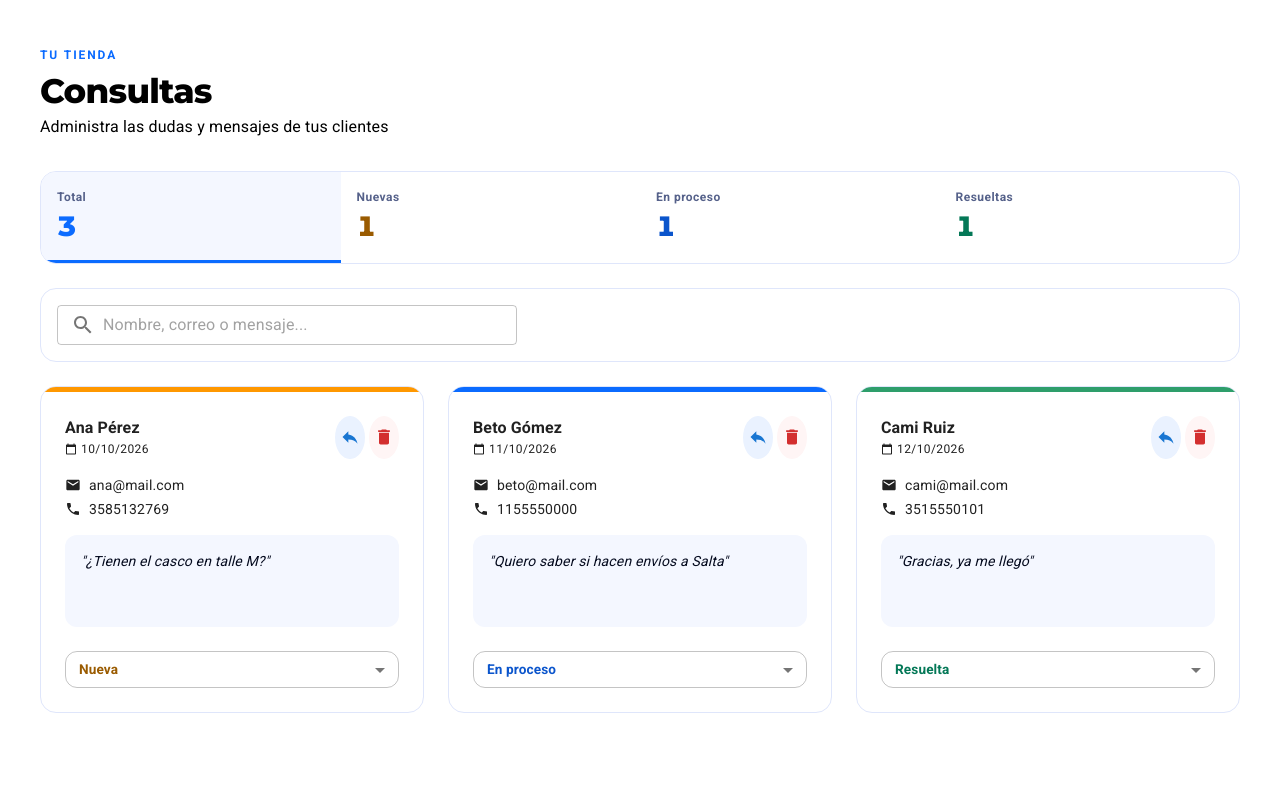
Test: Consultas · responder › cancelar cierra la ventana sin mandar nada
The width and height of the screenshot is (1280, 800).
Click the button named "Responder a Ana Pérez" at (350, 437), box [335,416,365,459]
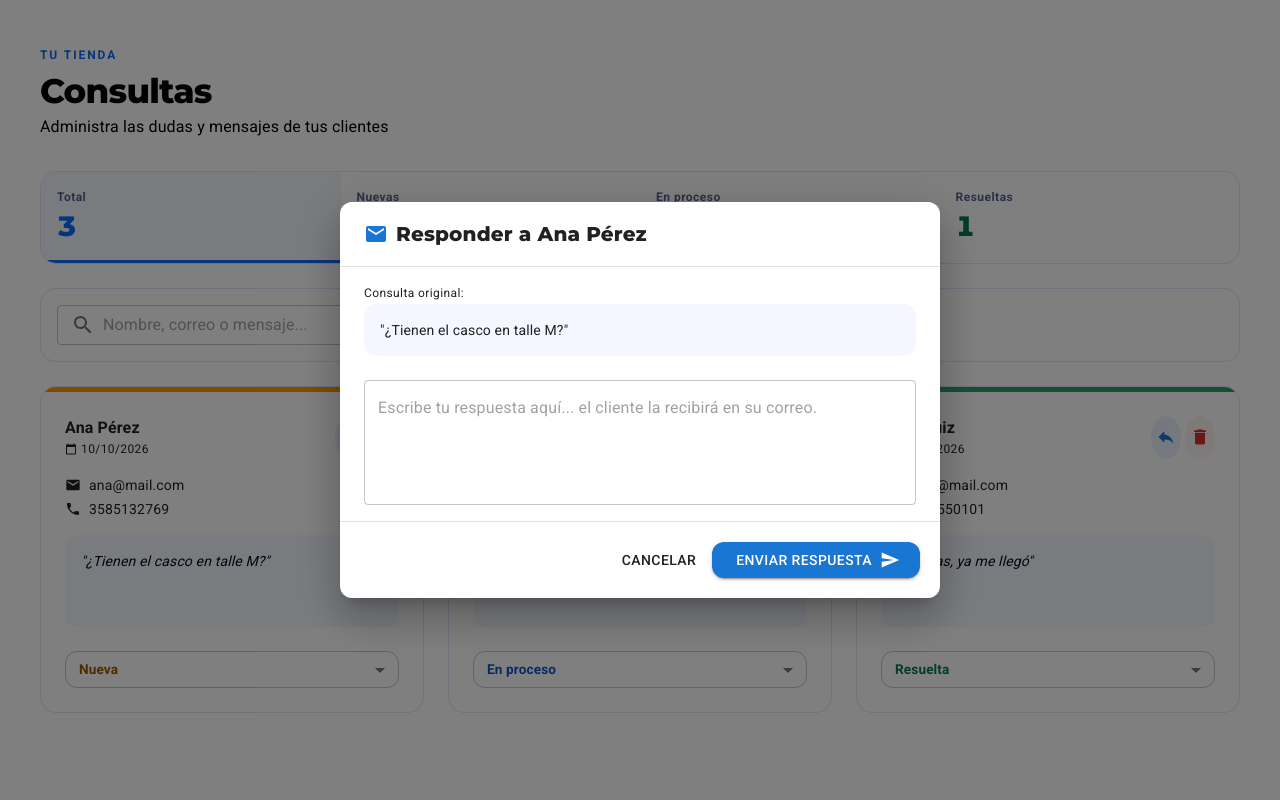
Click the button "Cancelar" at (659, 560), box [614,542,704,578]
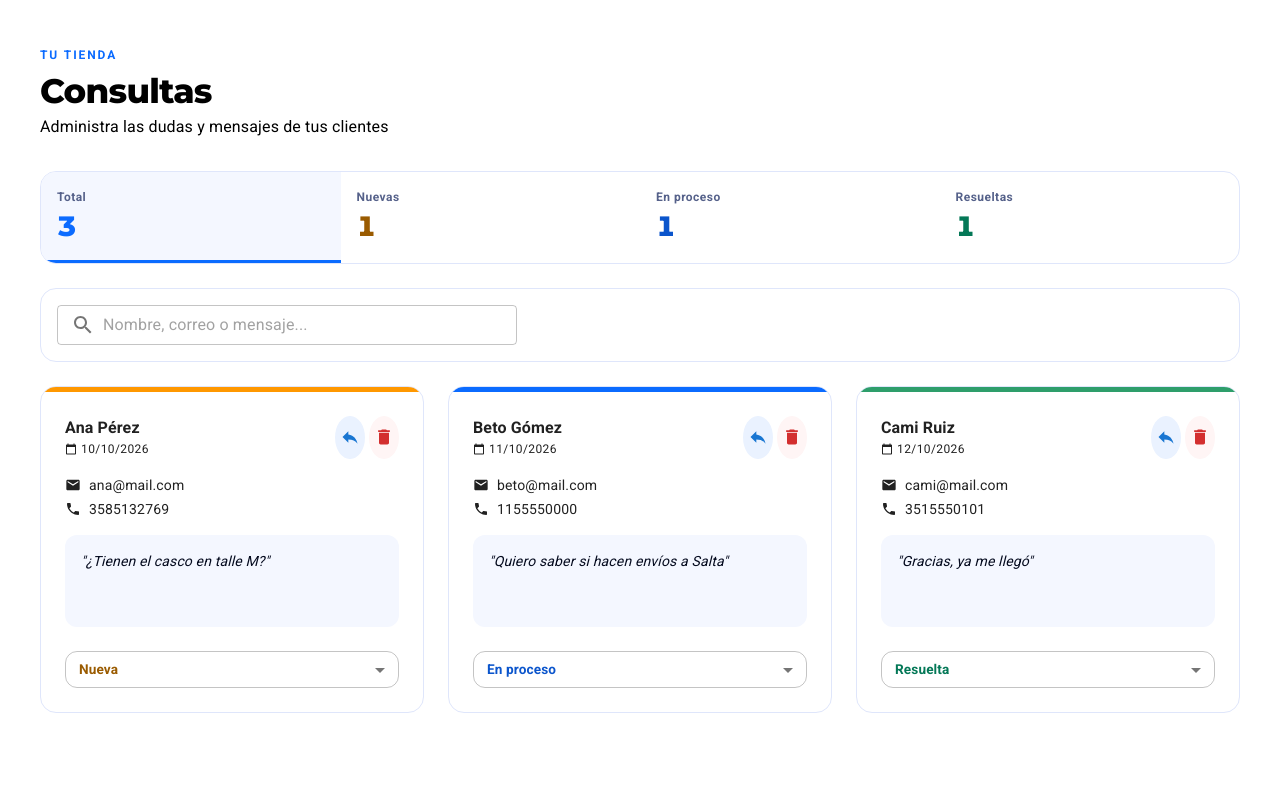
Expected: the dialog is gone
